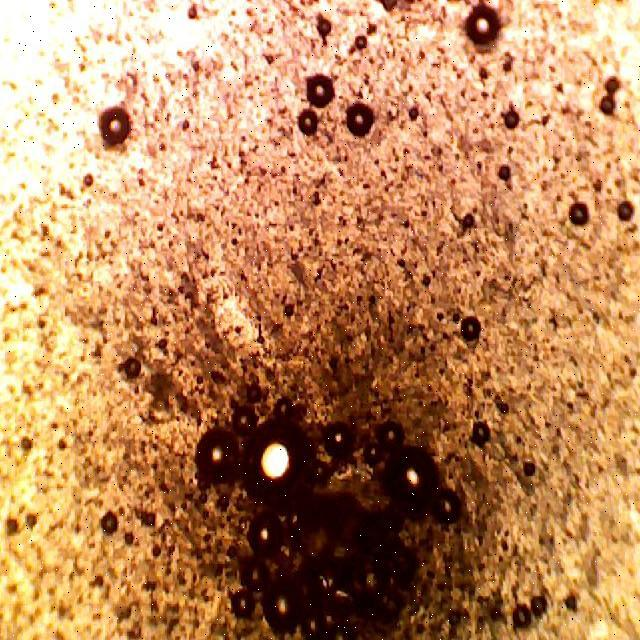microbeads: (92, 104, 132, 152), (461, 8, 504, 52), (342, 100, 378, 140), (304, 74, 336, 108), (296, 108, 320, 138), (460, 313, 482, 343), (566, 202, 590, 226)
